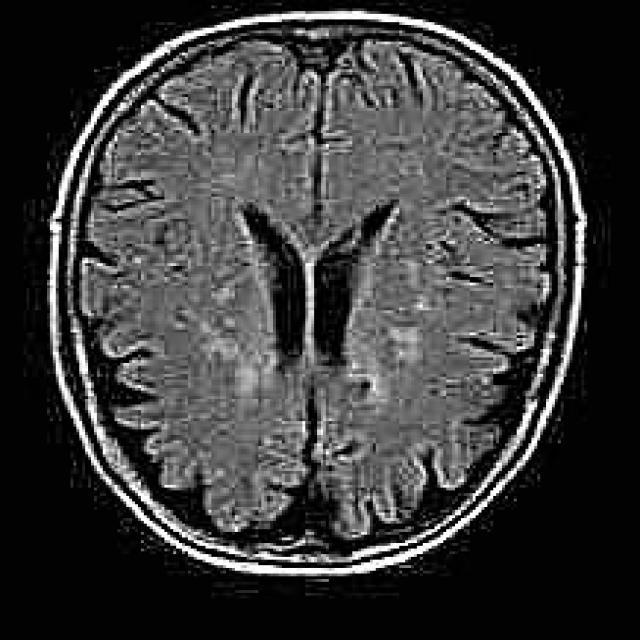notumor: (50, 11, 584, 574)
